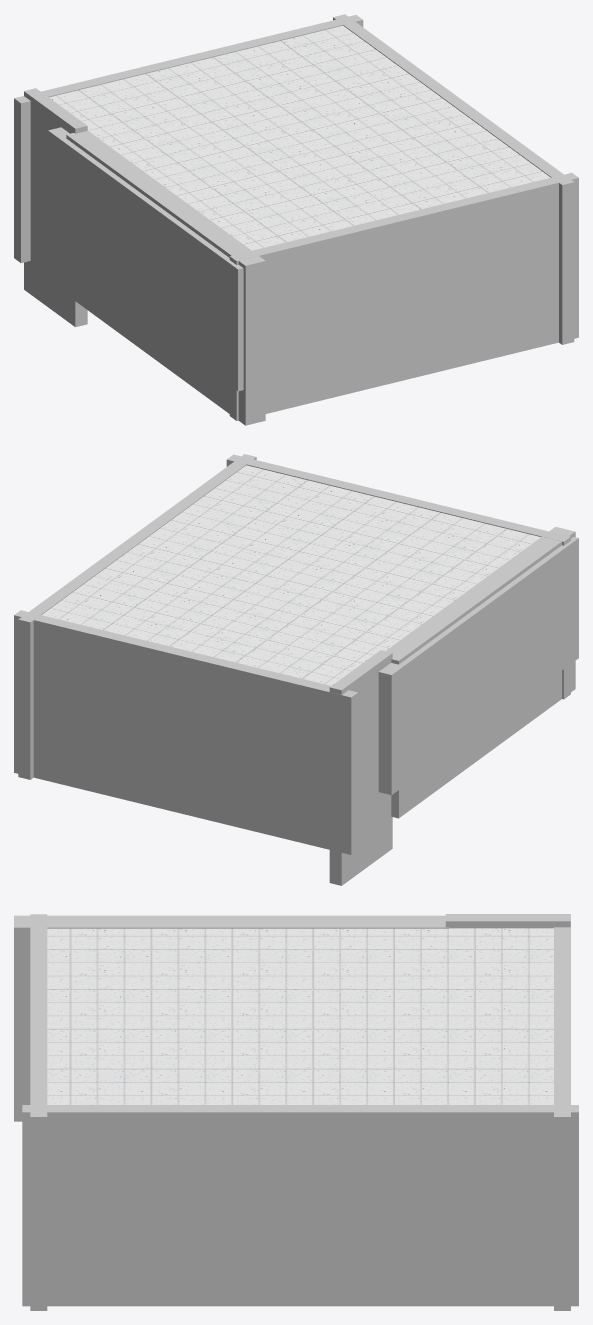
Rendered from Sala308.fbx.
3 renders of one model, top to bottom at view 1: azimuth 30°, elevation 25°; view 2: azimuth 150°, elevation 25°; view 3: azimuth 270°, elevation 25°, orthographic. The views are drawn at different scales.
Visible parts, largest first — view 1: 18.001; view 2: 18.001; view 3: 18.001.
Boxes of the visible parts, x1,y1,x2,y2 form: 18.001: (14,14,578,425); 18.001: (14,454,578,885); 18.001: (14,914,578,1310).
Size of the model in its own units: 724 by 397 by 845.
13 materials, 4 textured.
